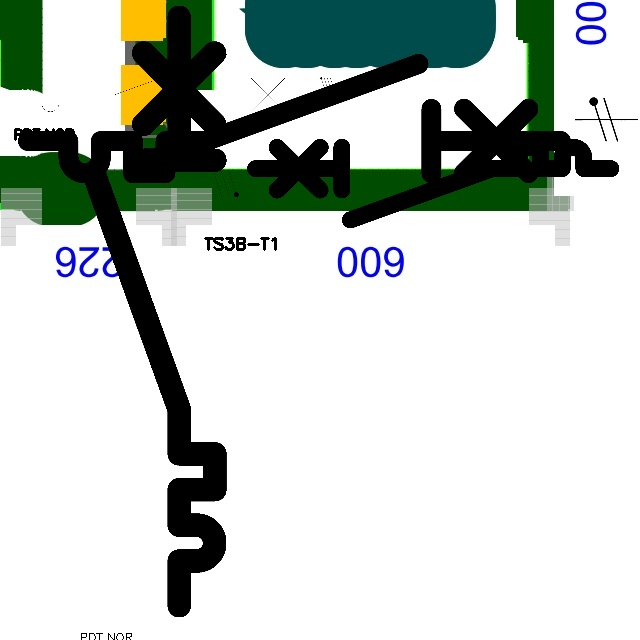interruptor_termomagnetico: (79, 2, 230, 621), (14, 50, 575, 187), (246, 138, 619, 229), (13, 47, 309, 119)
